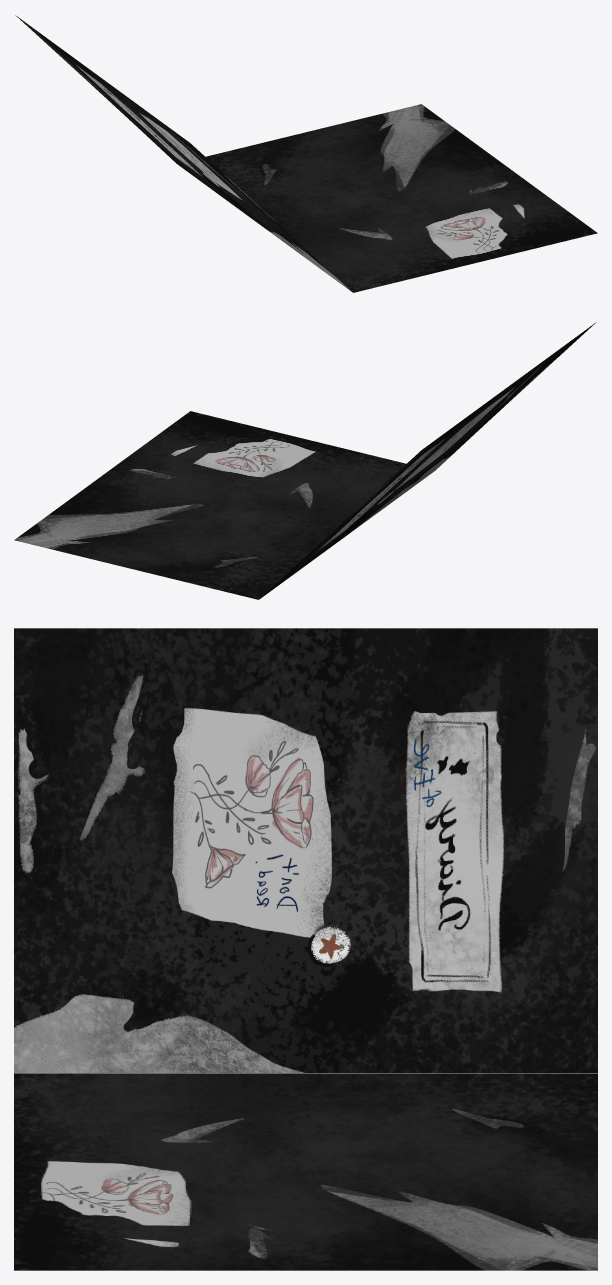
Rendered from Turnable_page_diarycover.fbx.
3 renders of one model, top to bottom at view 1: azimuth 30°, elevation 25°; view 2: azimuth 150°, elevation 25°; view 3: azimuth 270°, elevation 25°, orthographic. The views are drawn at different scales.
Parts seen in each view (by area): view 1: backcover, frontcover; view 2: backcover, frontcover; view 3: frontcover, backcover.
Part boxes in pixels (box(x1,y1,x2,y2)): backcover: box(205, 104, 597, 292); frontcover: box(15, 15, 352, 292); backcover: box(14, 411, 406, 599); frontcover: box(259, 322, 596, 599); frontcover: box(14, 628, 597, 1072); backcover: box(14, 1073, 597, 1270).
Bounding box in the file's own units: 267 × 118 × 200.
Materials: 2 (2 with a texture image).
